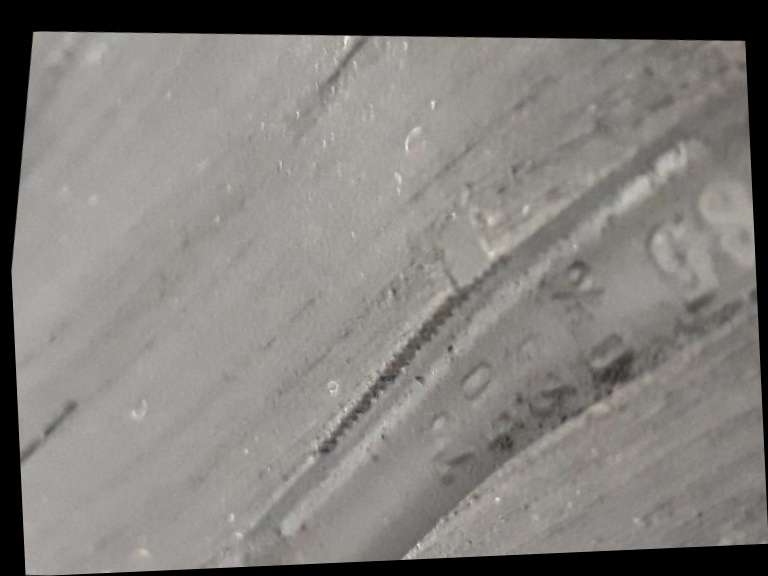temoin:0: (410, 206, 525, 326)
